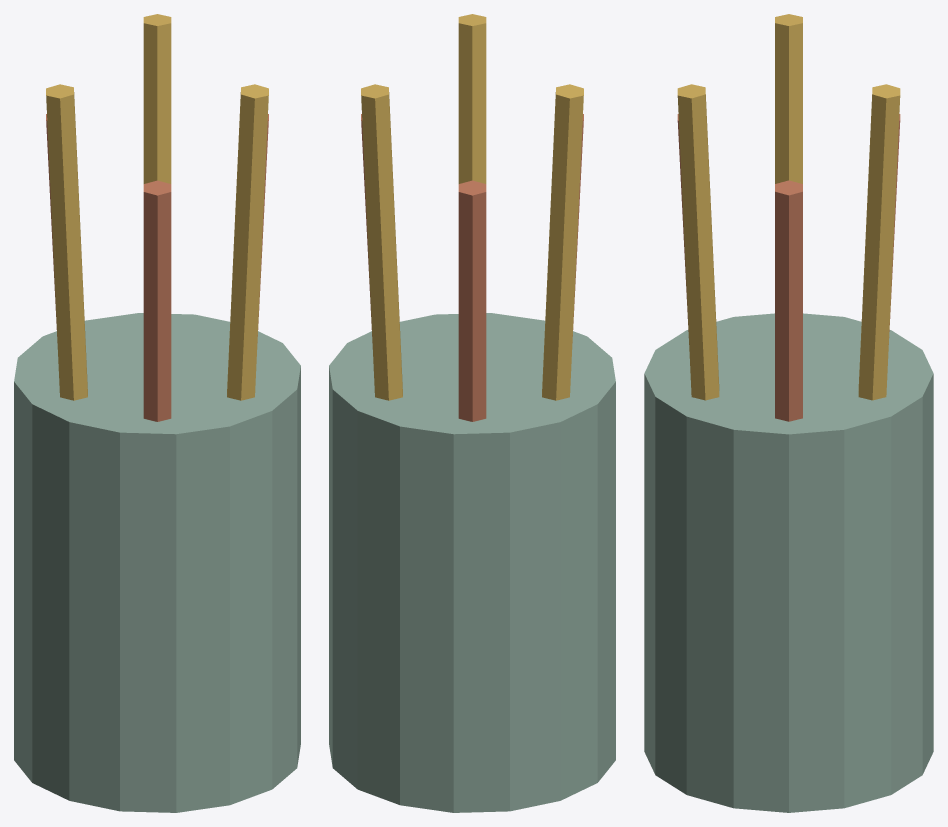
The model's file is pencil_cup.glb.
The picture shows the model from 3 angles, left to right: view 1: azimuth 30°, elevation 25°; view 2: azimuth 150°, elevation 25°; view 3: azimuth 270°, elevation 25°; orthographic projection.
Visible parts, largest first — view 1: pencil_cup_Mesh; view 2: pencil_cup_Mesh; view 3: pencil_cup_Mesh.
Boxes of the visible parts, <box> form: pencil_cup_Mesh: <box>14,14,300,812</box>; pencil_cup_Mesh: <box>329,14,615,812</box>; pencil_cup_Mesh: <box>644,14,933,812</box>.
Bounding box in the file's own units: 0.09 × 0.2352 × 0.09.
